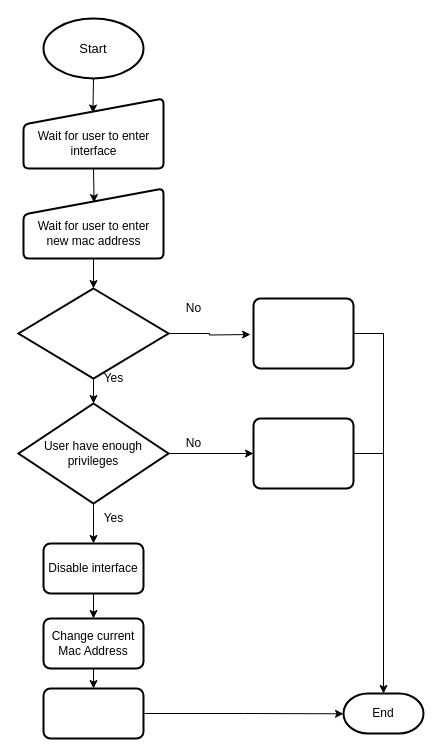
Image size: 441x756. Some labels were removed from this diagram. The box of each missing label's shape, as (x1, y1, x2, y2) in pixels:
Enable interface: (42, 687, 144, 739)
Print error message (argument is required): (252, 297, 354, 369)
Print error message (ID: Operation not permitted): (252, 417, 354, 489)
User enter both requirements: (17, 287, 169, 379)
